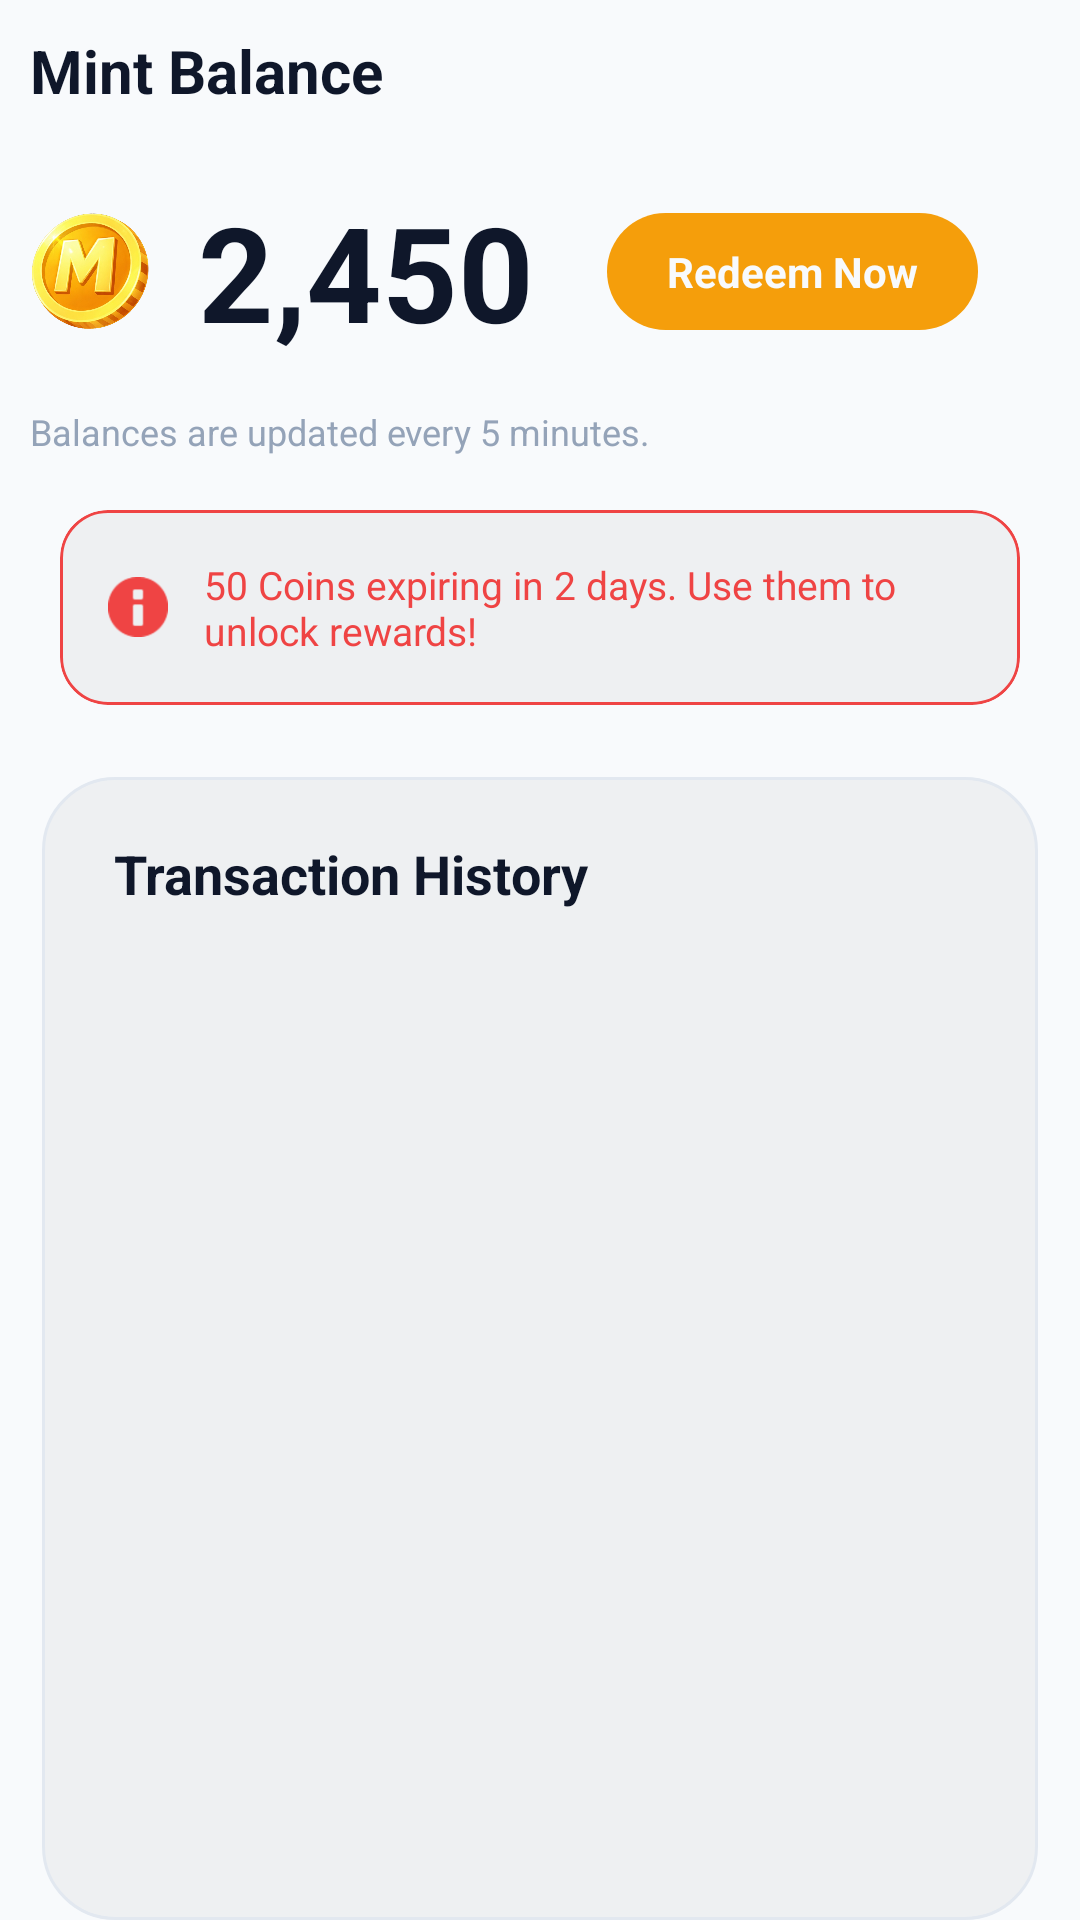

Where to tap for icons on this 1080px×1920px app screen, as point (x, y):
info: point (138, 607)
mint coin: point (90, 271)
